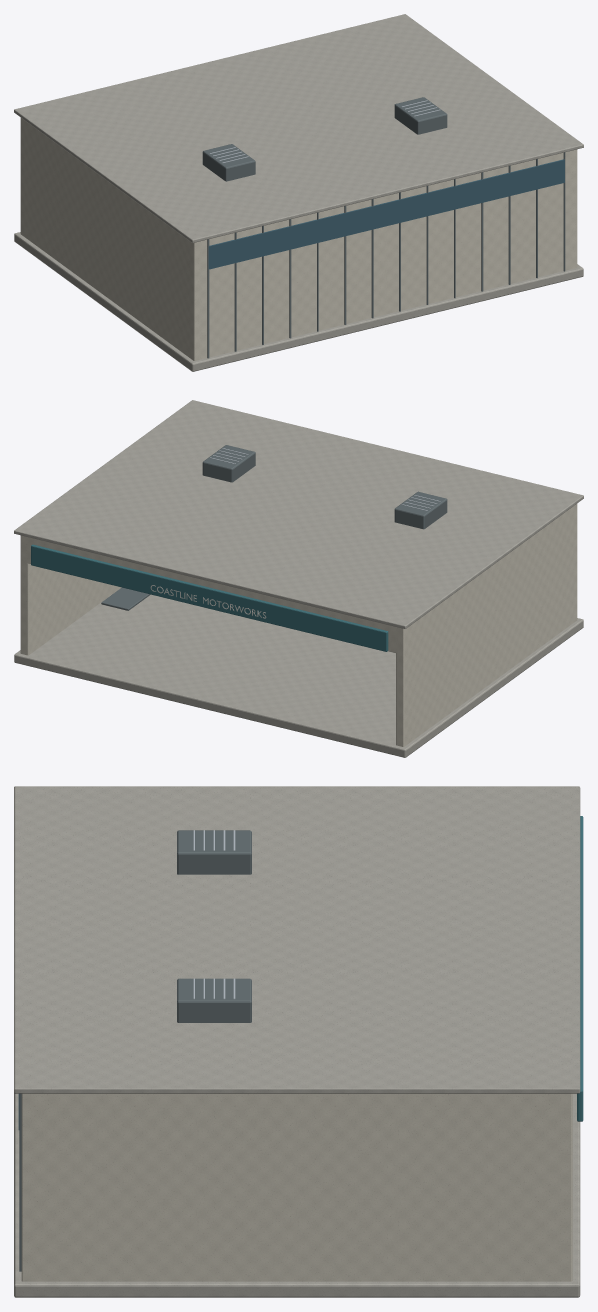
File: mc_garage.glb
3 renders of one model, top to bottom at view 1: azimuth 30°, elevation 25°; view 2: azimuth 150°, elevation 25°; view 3: azimuth 270°, elevation 25°, orthographic. The views are drawn at different scales.
Visible parts, largest first — view 1: mc_garage__Geometry; view 2: mc_garage__Geometry; view 3: mc_garage__Geometry.
Part boxes in pixels (x1=…): mc_garage__Geometry: x1=14, y1=14, x2=583, y2=371; mc_garage__Geometry: x1=14, y1=400, x2=583, y2=757; mc_garage__Geometry: x1=14, y1=786, x2=583, y2=1297.
Bounding box in the file's own units: 28.6 × 10.24 × 22.75.
7 materials, 2 textured.
